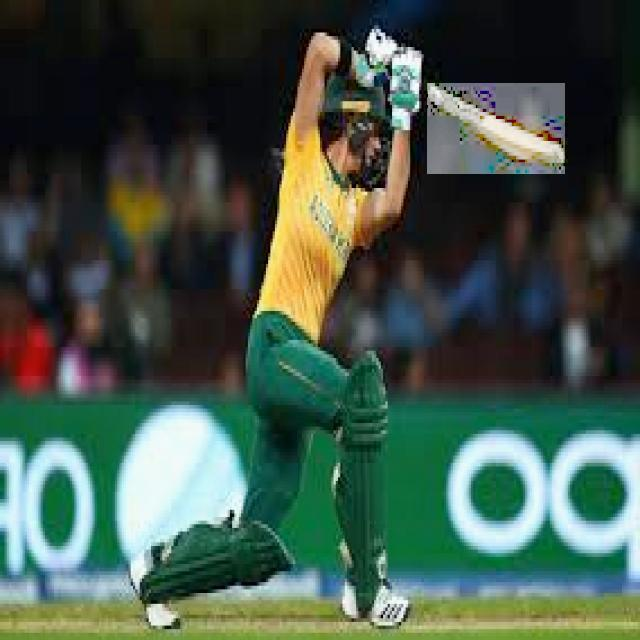bat: (428, 85, 568, 183)
toe: (529, 138, 566, 175)
